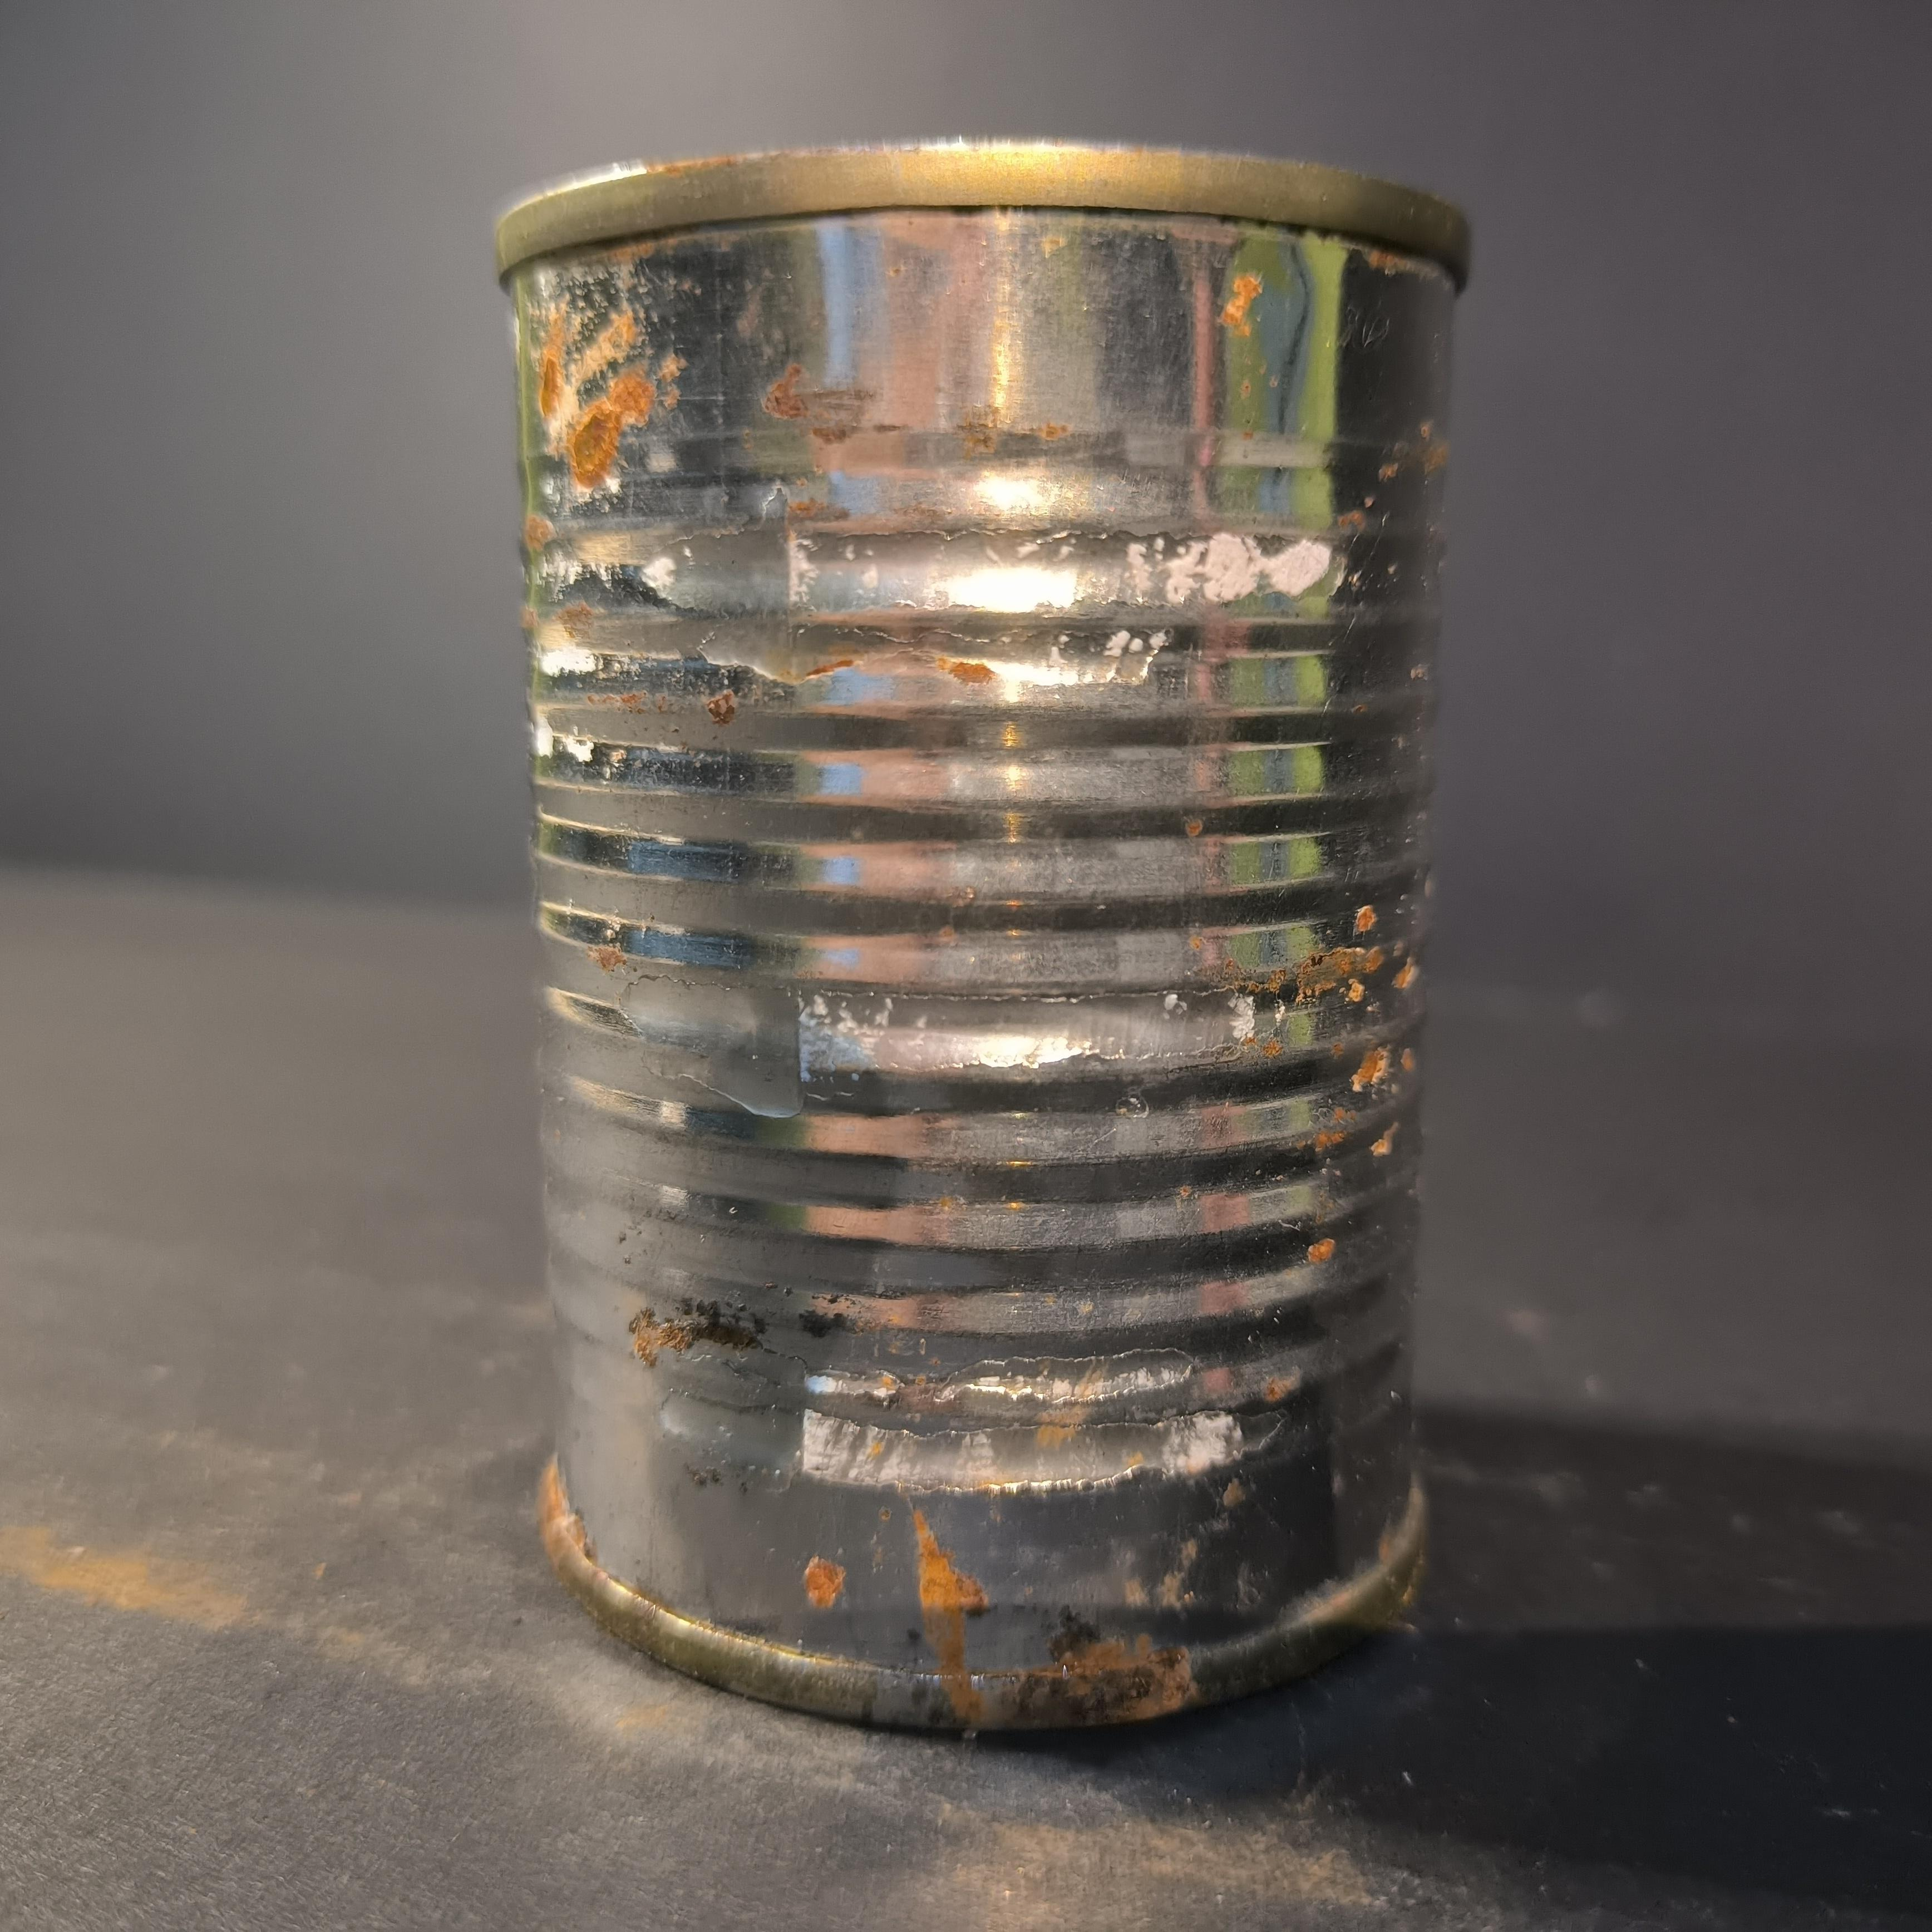Rusted: (453, 127, 1491, 1741)
